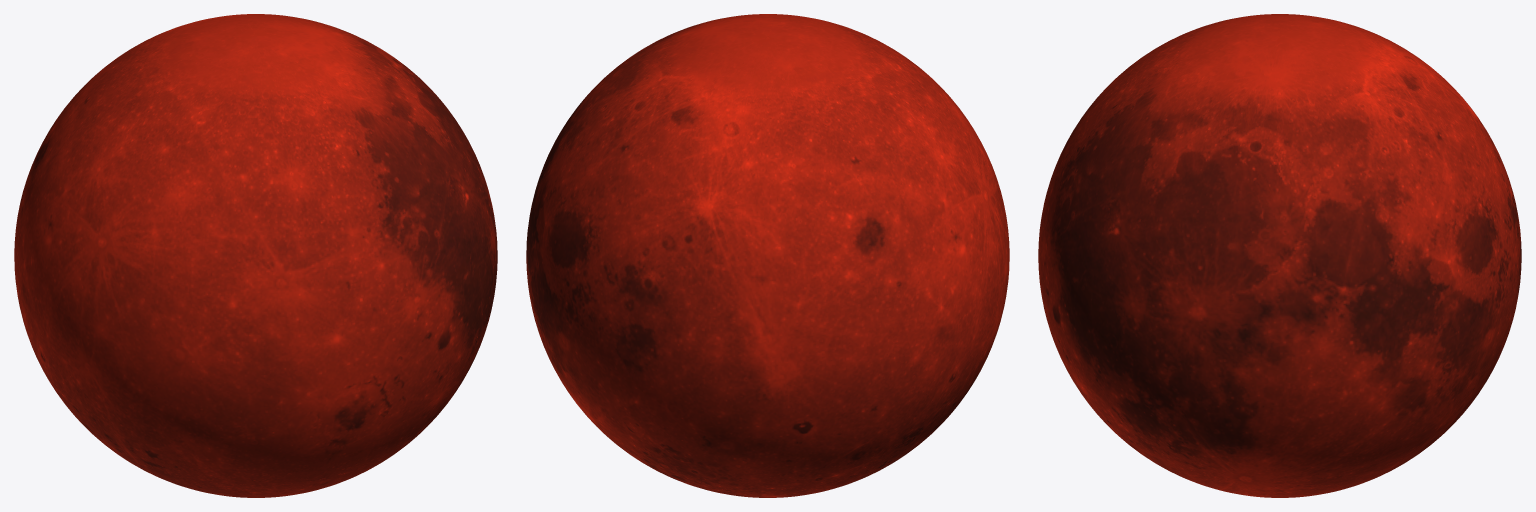
The model's file is the_blood_moon.glb.
The picture shows the model from 3 angles, left to right: view 1: azimuth 30°, elevation 25°; view 2: azimuth 150°, elevation 25°; view 3: azimuth 270°, elevation 25°; orthographic projection.
Visible parts, largest first — view 1: Moon_1; view 2: Moon_1; view 3: Moon_1.
Part boxes in pixels (box(x1,y1,x2,y2)): Moon_1: box(14, 14, 497, 497); Moon_1: box(526, 14, 1009, 497); Moon_1: box(1038, 14, 1521, 497).
Size of the model in its own units: 1.99 by 2 by 1.99.
Materials: 1 (1 with a texture image).
